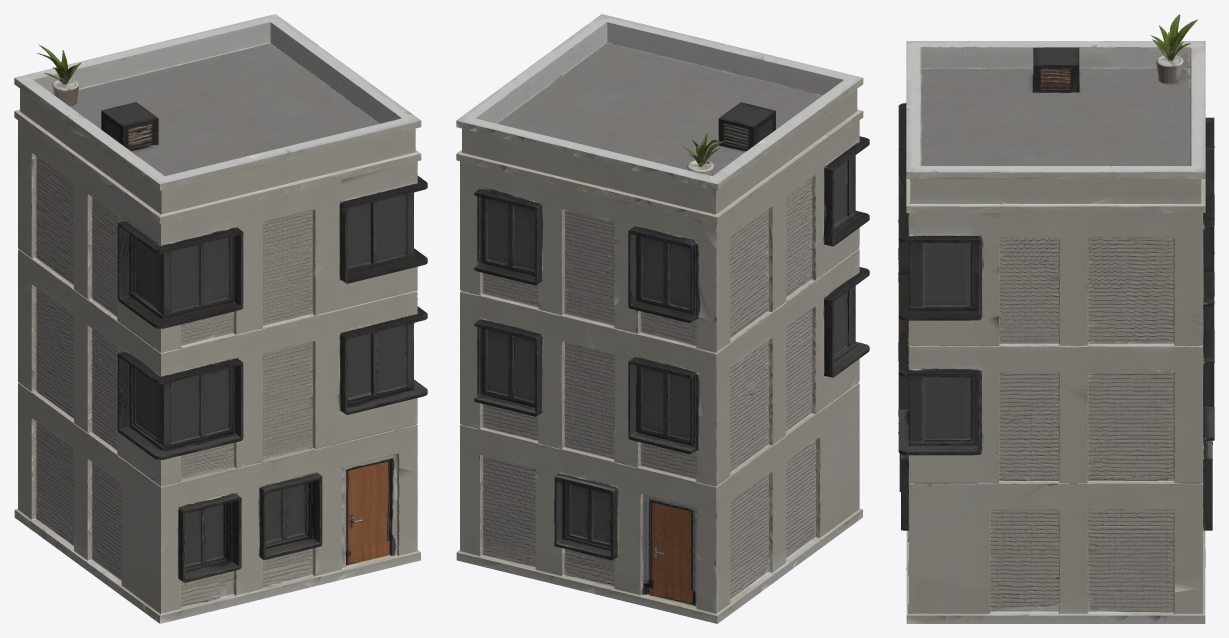
Rendered from JHB_HeroBuilding05_LOD0.fbx.
3 views of the same model, side by side, from view 1: azimuth 30°, elevation 25°; view 2: azimuth 150°, elevation 25°; view 3: azimuth 270°, elevation 25° (orthographic). The views are drawn at different scales.
Parts seen in each view (by area): view 1: JHB_HeroBuilding05_LOD0; view 2: JHB_HeroBuilding05_LOD0; view 3: JHB_HeroBuilding05_LOD0.
Boxes of the visible parts, box(x1,y1,x2,y2) form: JHB_HeroBuilding05_LOD0: box(14, 14, 427, 623); JHB_HeroBuilding05_LOD0: box(456, 14, 869, 623); JHB_HeroBuilding05_LOD0: box(898, 14, 1214, 623).
Bounding box in the file's own units: 10.92 × 18 × 10.66.
